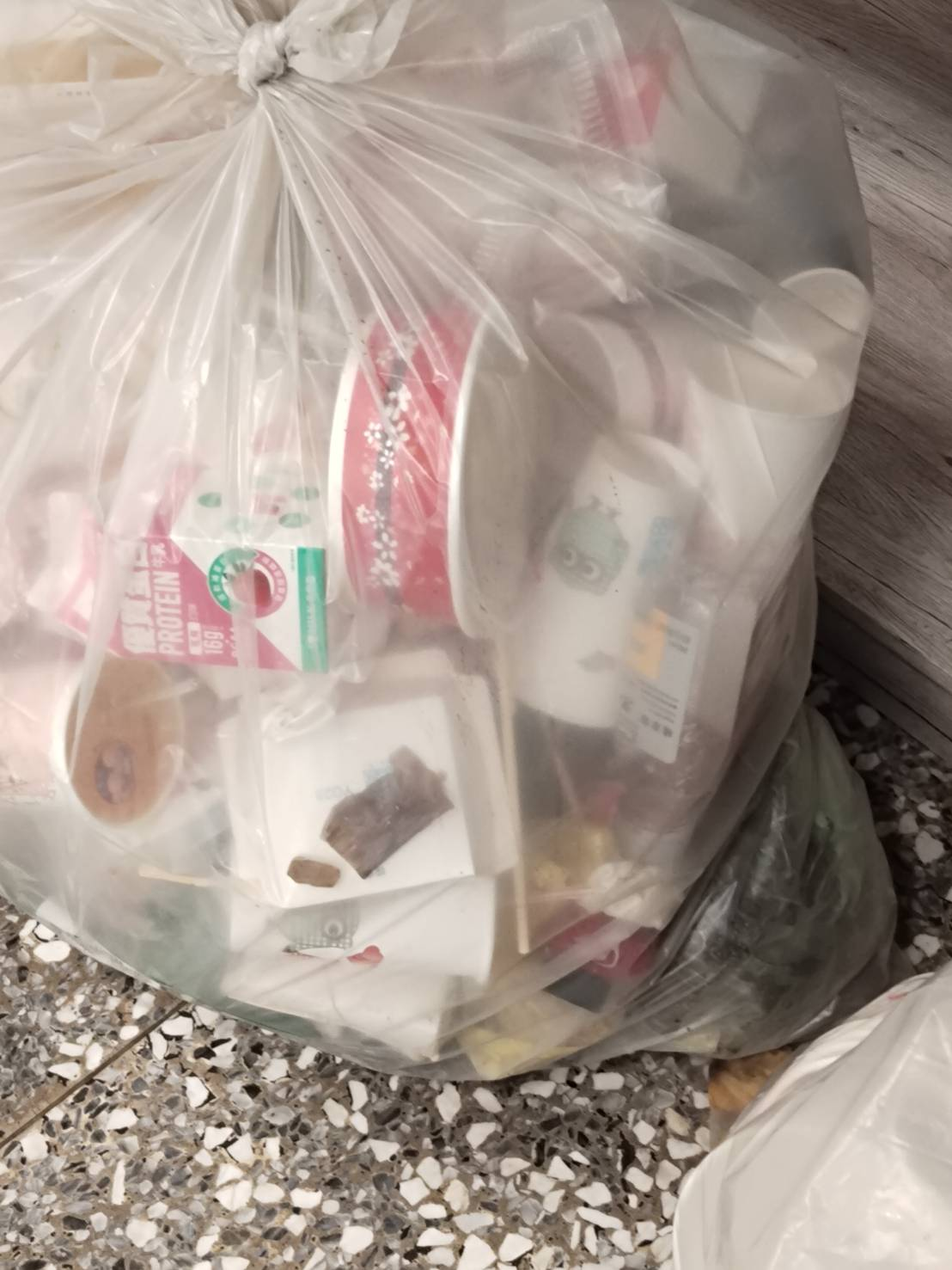paper: (194, 659, 591, 933), (314, 272, 556, 638), (17, 448, 367, 678), (500, 393, 711, 738), (0, 654, 199, 852)
